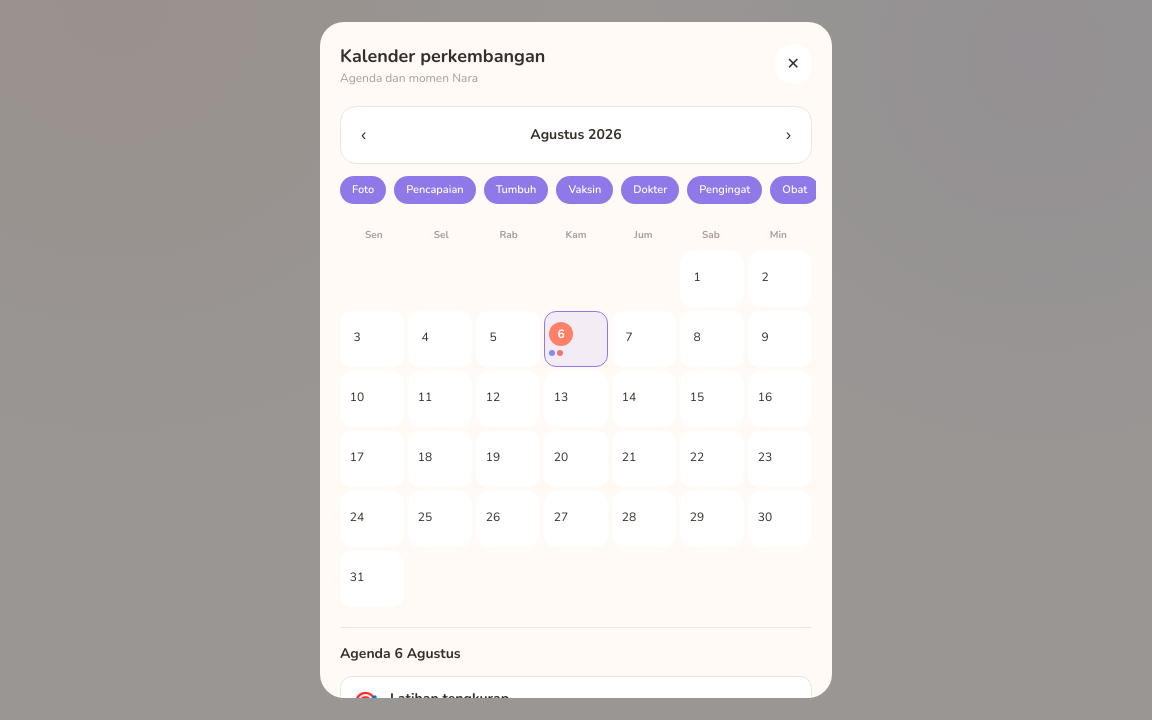
Scenario: DevelopmentCalendar › shows a month grid and selected-day agenda
This screenshot has width=1152, height=720.
Expected: the text "Agustus 2026" is shown, [530,125,622,145]
Click the button named "Pilih tanggal 2026-08-06".
click(576, 339)  # box [544,311,608,367]
(page scrolled)
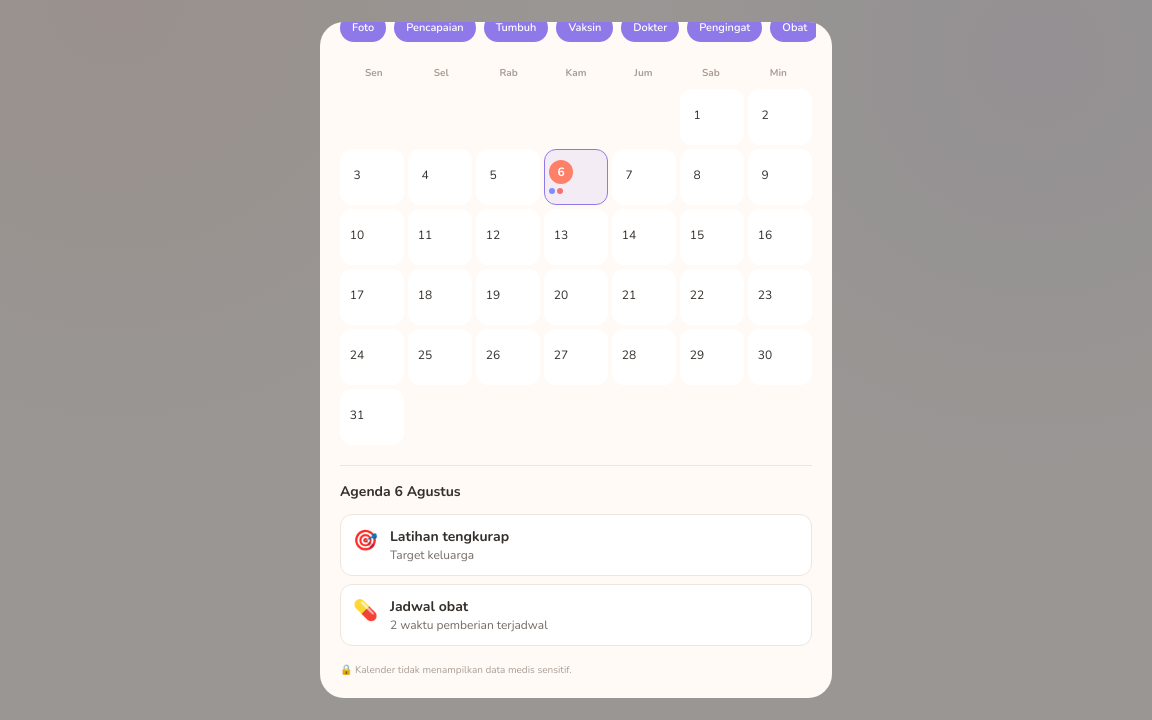
Expected: the text "Latihan tengkurap" is shown, [390,527,509,547]
Expected: the text "2 waktu pemberian terjadwal" is shown, [390,617,548,633]
